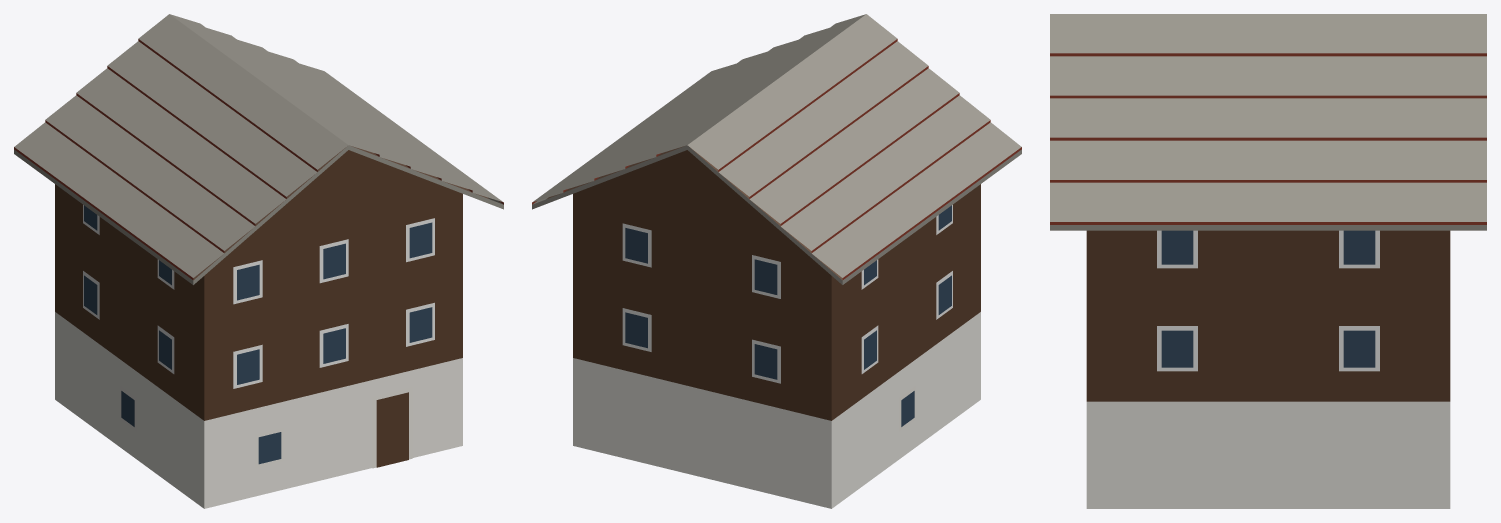
Rendered from chalet_valaisan.glb.
3 views of the same model, side by side, from view 1: azimuth 30°, elevation 25°; view 2: azimuth 150°, elevation 25°; view 3: azimuth 270°, elevation 25° (orthographic). The views are drawn at different scales.
Parts seen in each view (by area): view 1: chalet_valaisan; view 2: chalet_valaisan; view 3: chalet_valaisan.
Part boxes in pixels (<box>): chalet_valaisan: <box>14,14,503,508</box>; chalet_valaisan: <box>532,14,1021,508</box>; chalet_valaisan: <box>1050,14,1486,508</box>.
Bounding box in the file's own units: 9.6 × 10.14 × 9.6.
1 material, 1 textured.
